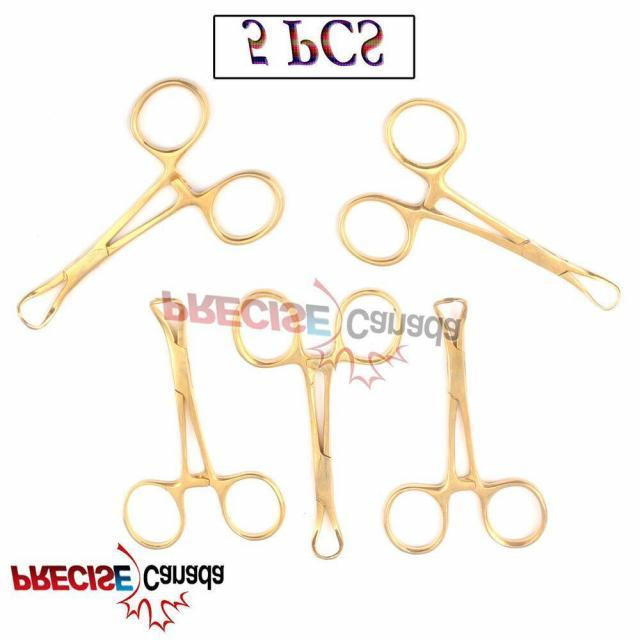Towel_clip: (12, 75, 288, 335), (334, 94, 624, 315), (230, 287, 410, 564), (378, 294, 552, 557), (120, 296, 288, 552)
